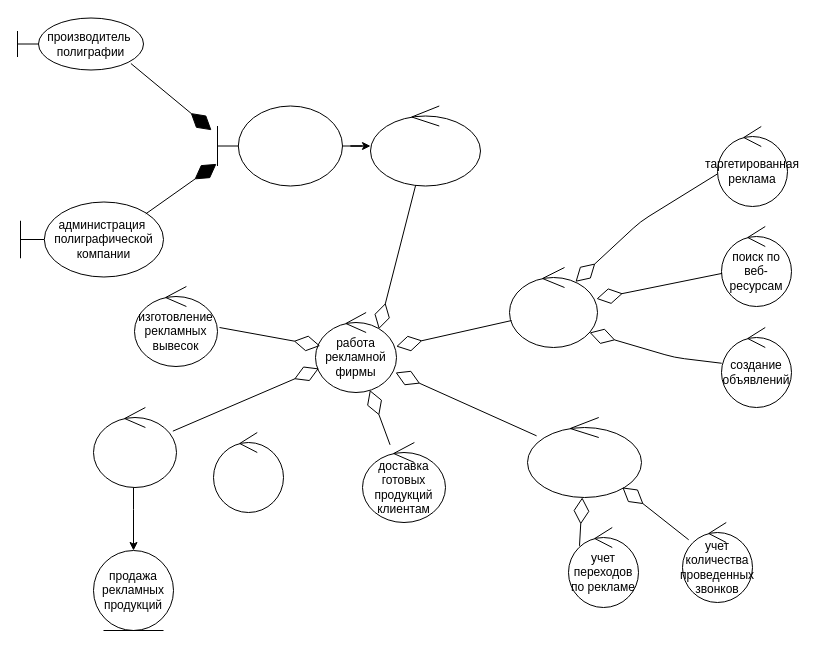
The diagram is 817 pixels wide and 648 high, and some of its shapes have lost their labels. Each missing label, with the centre of its shape:
"анализ работоспособности рекламы" goes at (584,457).
"ведение статистики продвижения рекламы" goes at (134,447).
"заказ полиграфической продукции" goes at (279,145).
"поставка полиграфической продукции" goes at (425,145).
"продвижение товаров и услуг" goes at (553,307).
"создание дизайна продуктов" goes at (248,472).
